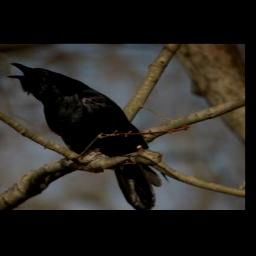Crow: (4, 59, 164, 209)
